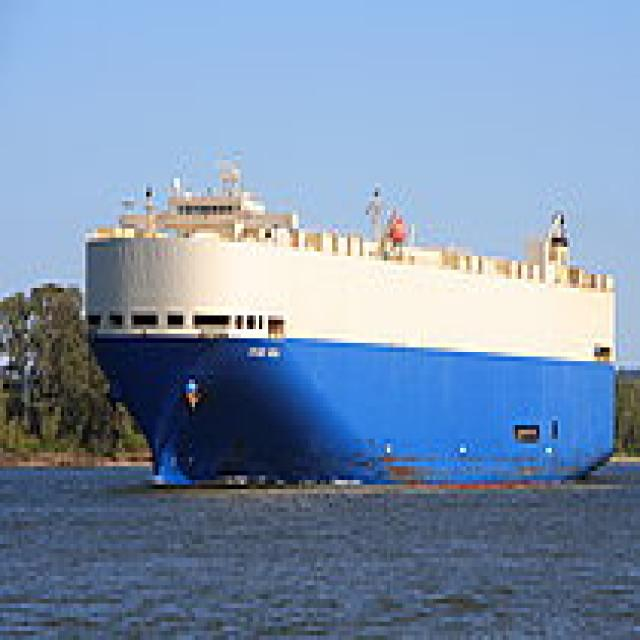Carrier: (76, 146, 616, 489)
